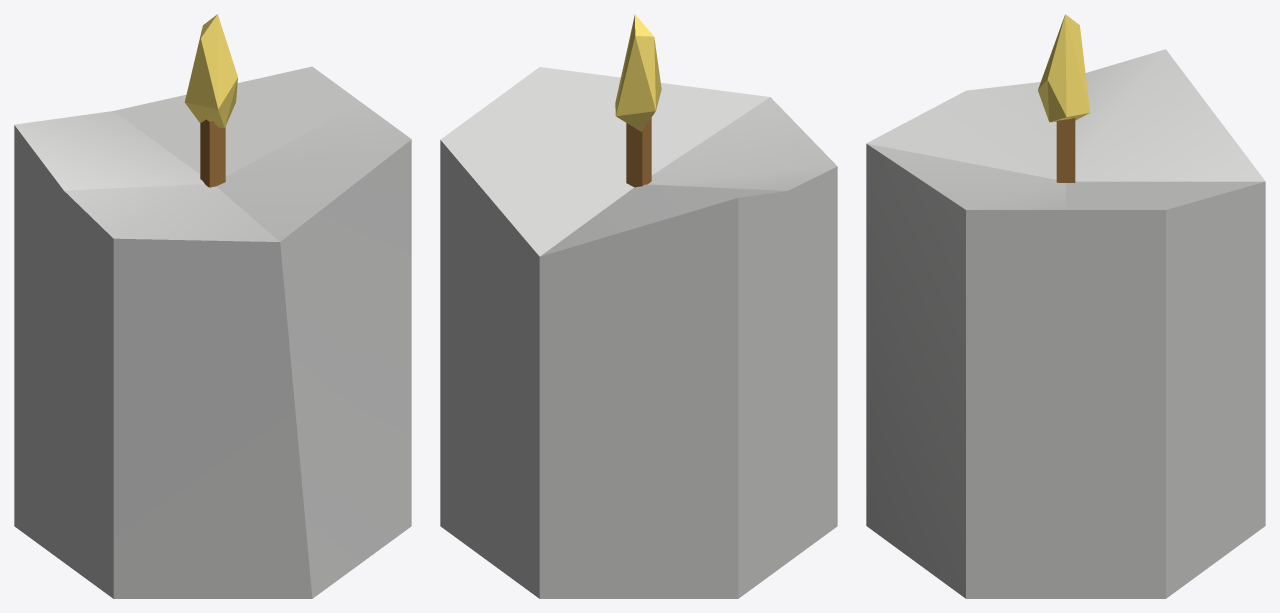
Rendered from candle_interactable.fbx.
3 renders of one model, left to right at view 1: azimuth 30°, elevation 25°; view 2: azimuth 150°, elevation 25°; view 3: azimuth 270°, elevation 25°, orthographic.
Parts seen in each view (by area): view 1: candle_interactable; view 2: candle_interactable; view 3: candle_interactable.
Boxes of the visible parts, x1=… form: candle_interactable: x1=14, y1=14, x2=411, y2=598; candle_interactable: x1=440, y1=14, x2=837, y2=598; candle_interactable: x1=866, y1=14, x2=1265, y2=598.
Size of the model in its own units: 81.5 by 134 by 94.11.
